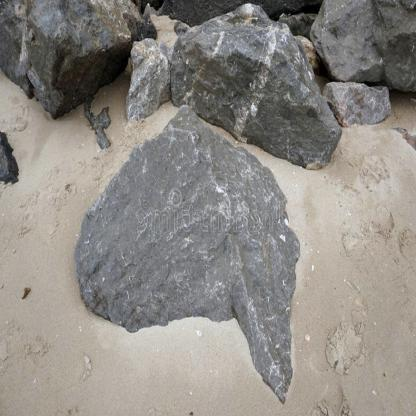Sedimentary_Limestone: (58, 102, 310, 415), (157, 0, 345, 162)
